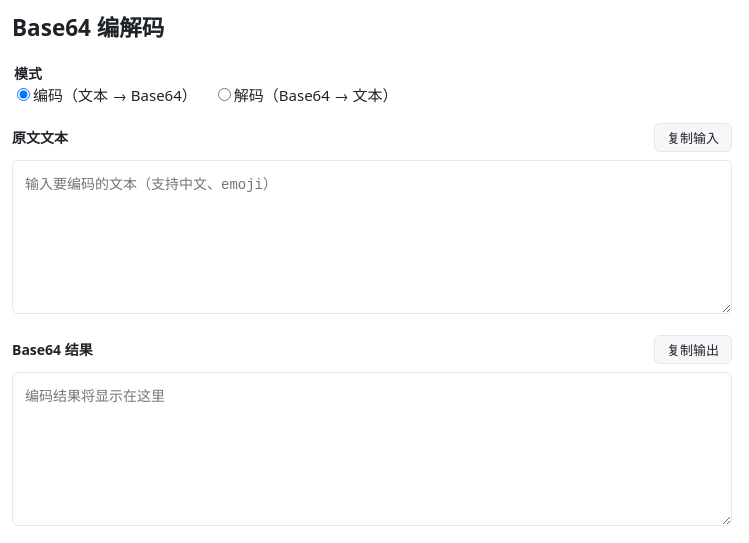
Test: 模式切换 › 切换到解码模式后标签变为「Base64 文本」/「解码结果」
Click the radio button labelled "解码（Base64 → 文本）".
click(224, 95)  # box [218,88,231,101]
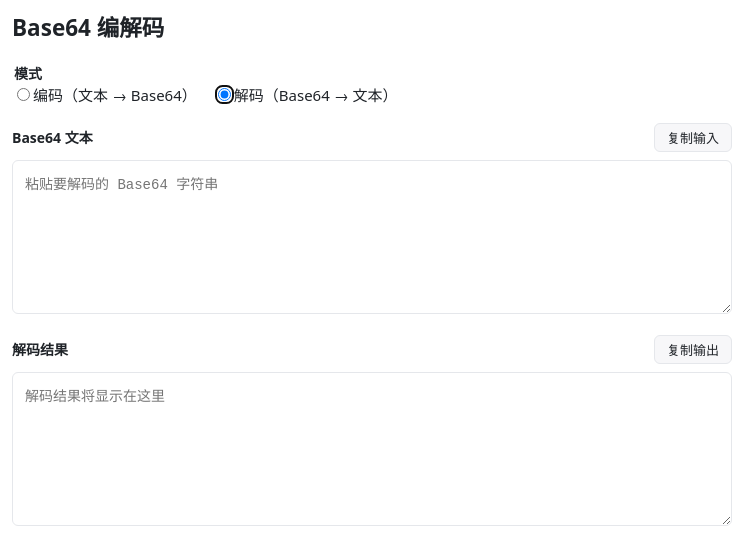
Expected: the radio button labelled "解码（Base64 → 文本）" is checked, [218,88,231,101]
Expected: the text box labelled "解码结果" is shown, [12,372,732,526]
Expected: the label labelled "原文文本" is gone
